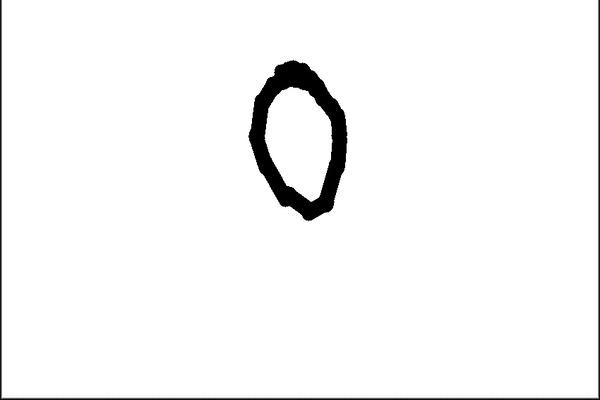O: (232, 51, 359, 232)
